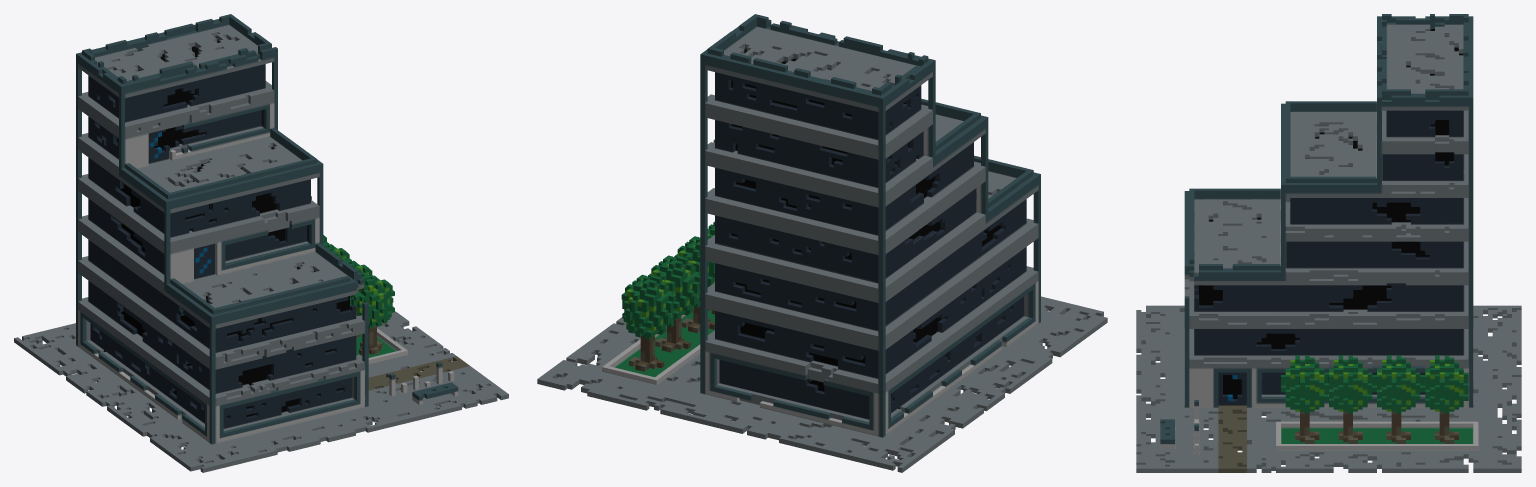
The model's file is building_big_4_damaged.glb.
The picture shows the model from 3 angles, left to right: view 1: azimuth 30°, elevation 25°; view 2: azimuth 150°, elevation 25°; view 3: azimuth 270°, elevation 25°; orthographic projection. The views are drawn at different scales.
Parts seen in each view (by area): view 1: building_big_4_damaged; view 2: building_big_4_damaged; view 3: building_big_4_damaged.
Boxes of the visible parts, x1=… form: building_big_4_damaged: x1=14, y1=14, x2=508, y2=472; building_big_4_damaged: x1=537, y1=14, x2=1107, y2=472; building_big_4_damaged: x1=1136, y1=14, x2=1521, y2=472.
Size of the model in its own units: 8 by 7.3 by 8.
Materials: 1 (1 with a texture image).
